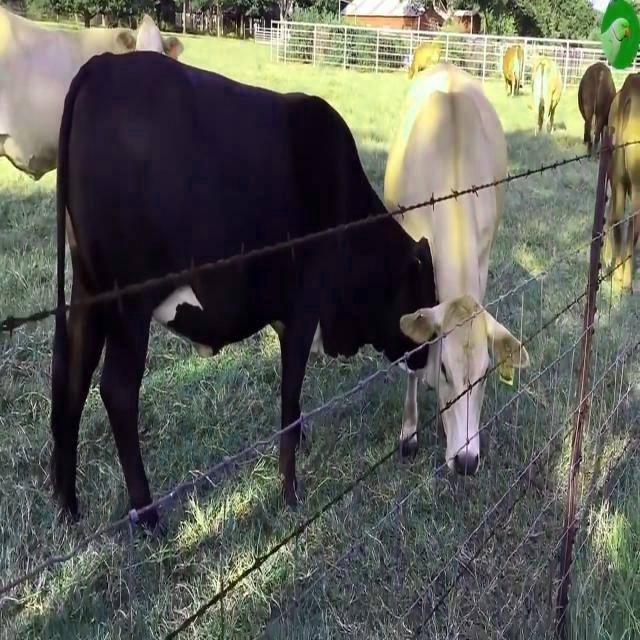cow: (51, 51, 435, 519), (398, 186, 529, 474), (0, 7, 181, 179), (384, 65, 506, 209), (401, 372, 418, 448)
